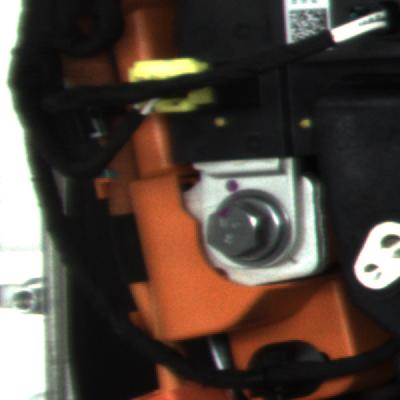nut_b: (196, 185, 298, 275)
